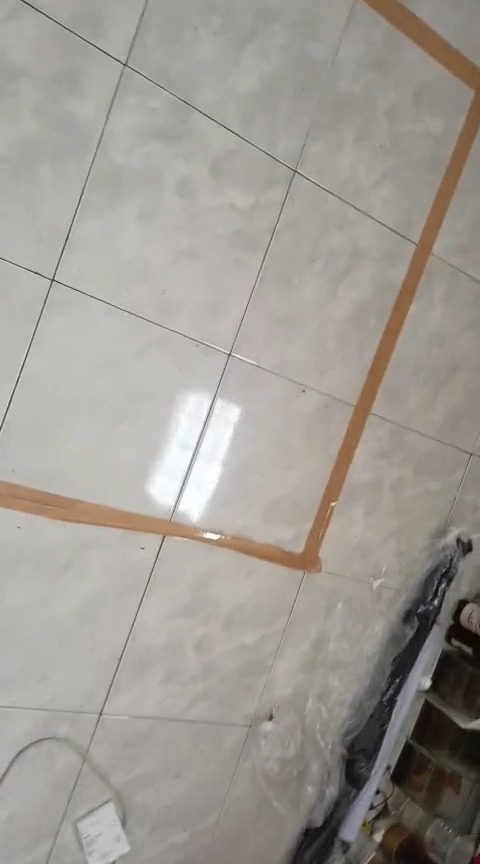floor marking: (0, 0, 479, 571)
